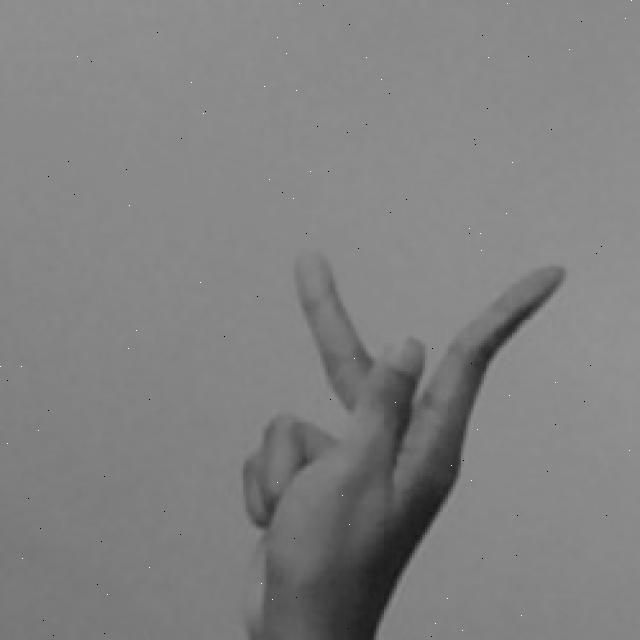K: (230, 246, 570, 640)
